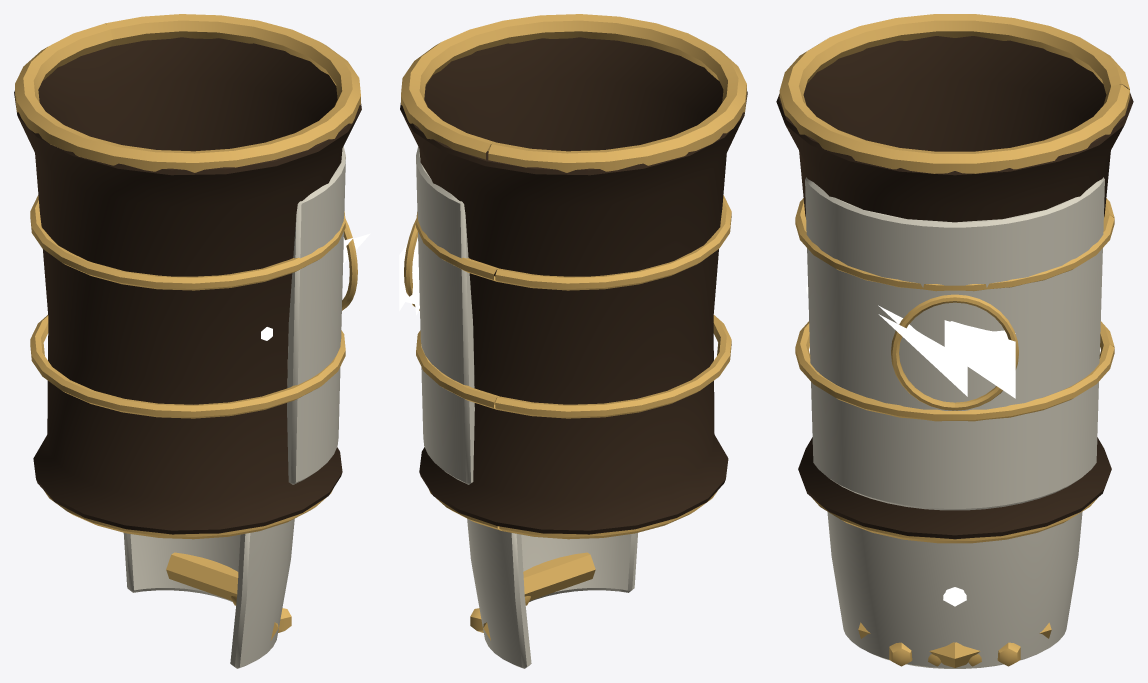
Rendered from asc_verdict_arbalist_gloves.glb.
3 views of the same model, side by side, from view 1: azimuth 30°, elevation 25°; view 2: azimuth 150°, elevation 25°; view 3: azimuth 270°, elevation 25° (orthographic).
Visible parts, largest first — view 1: asc_verdict_arbalist_gloves, AT_hand_L; view 2: asc_verdict_arbalist_gloves, AT_hand_L; view 3: asc_verdict_arbalist_gloves, AT_hand_L.
Part boxes in pixels (x1,y1,x2,y2): asc_verdict_arbalist_gloves: (14,14,370,539); AT_hand_L: (123,519,294,668); asc_verdict_arbalist_gloves: (399,14,747,539); AT_hand_L: (467,518,637,668); asc_verdict_arbalist_gloves: (776,14,1133,543); AT_hand_L: (827,511,1082,668).
Bounding box in the file's own units: 0.1971 × 0.3408 × 0.2004.
